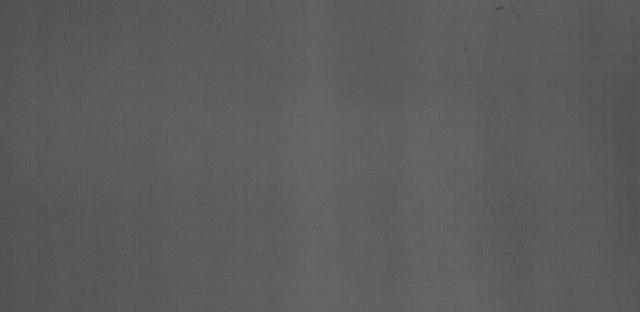inclusion: (456, 45, 476, 58), (489, 2, 510, 14)
